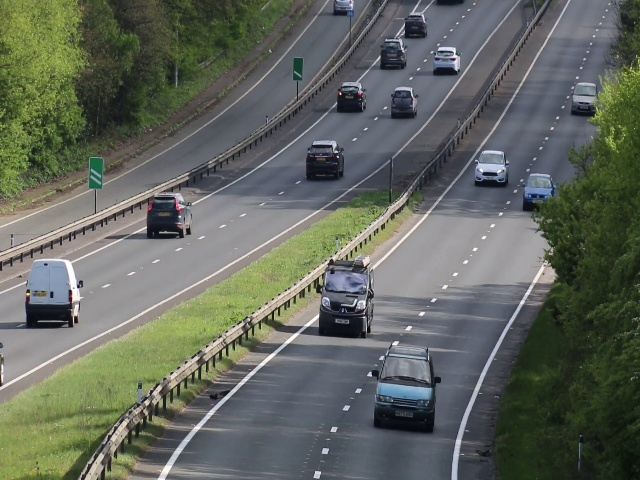car: (373, 342, 435, 429), (315, 267, 372, 338), (25, 258, 80, 328), (147, 193, 190, 238), (307, 140, 343, 180), (522, 172, 554, 215), (473, 148, 509, 185), (391, 86, 419, 120), (378, 40, 409, 68), (432, 45, 459, 77), (337, 81, 366, 110), (573, 81, 597, 114), (406, 14, 425, 36)
